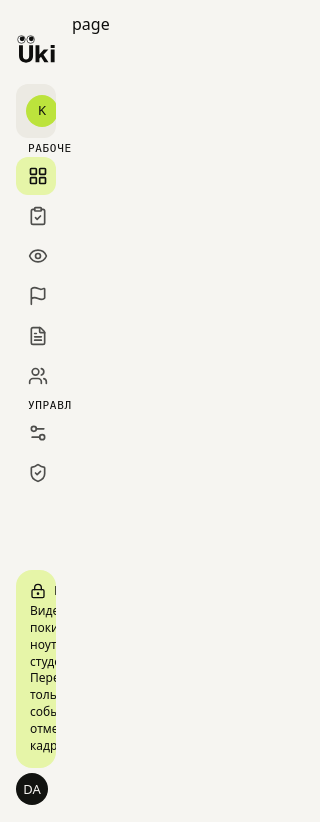
Test case: the shell in Russian: sidebar, 3.4a and 0.1c › opens the faculty switcher with the counts and All faculties
Press the mouse on the button named "KRU · Kostanay" at coordinates (36, 111), box [16,84,56,138]
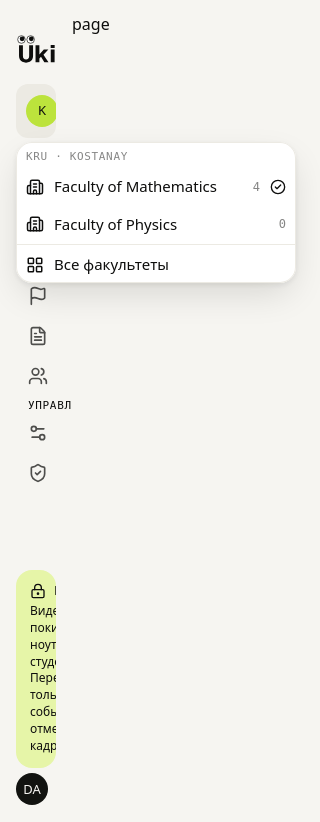
Result: the menu item "Faculty of Mathematics 4" is shown at [26,176,286,196]
Result: the menu item "Все факультеты" is shown at [26,254,169,274]
